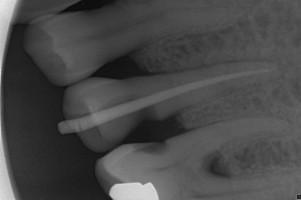Endo-Periodontal Lesion: (203, 149, 231, 178)
